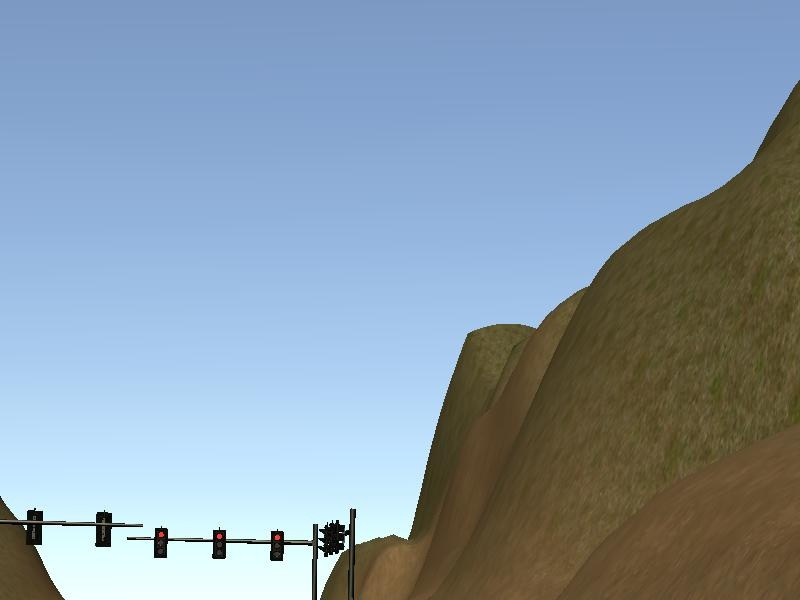red: (210, 528, 227, 564), (266, 528, 283, 564), (153, 526, 169, 561)
